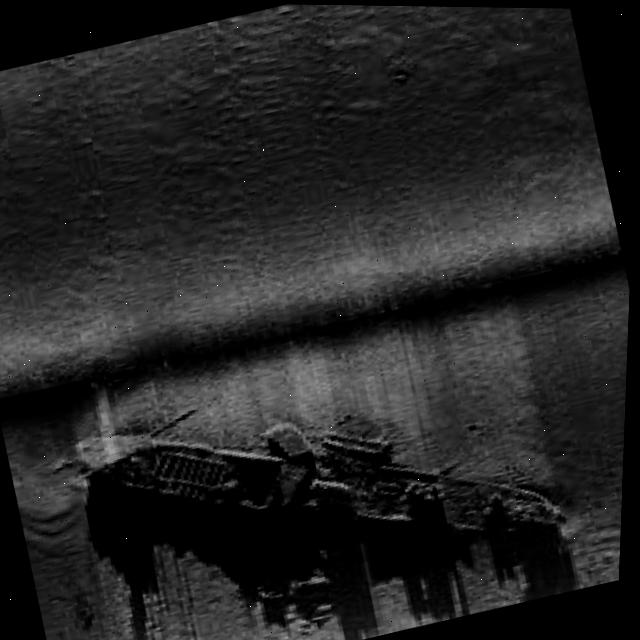shipwreck: (71, 325, 586, 640)
